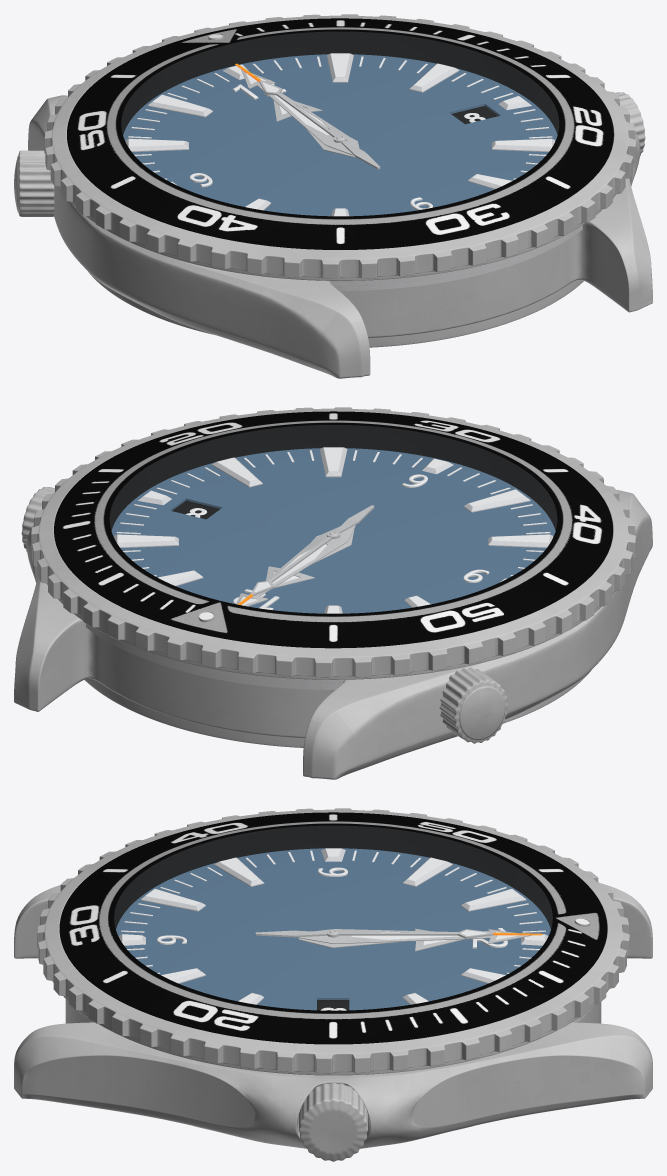
File: watch.glb
The picture shows the model from 3 angles, top to bottom: view 1: azimuth 30°, elevation 25°; view 2: azimuth 150°, elevation 25°; view 3: azimuth 270°, elevation 25°; orthographic projection. The views are drawn at different scales.
Parts seen in each view (by area): view 1: Curved_glass, Watch_Bezel, Dial_V2, Watch_Case (×2), Notched_bezel_Planet_ocean, 5min_display-RS_Aluminum_Brushed_01, Bellow_case_2.0, 5min_display-RS_White, Adjustment_Wheels_B, Minute_display, Minutes_hand, Seconde_hand-RS_Chromium 01 (+2 smaller); view 2: Curved_glass, Watch_Bezel, Dial_V2, Watch_Case (×2), Notched_bezel_Planet_ocean, 5min_display-RS_Aluminum_Brushed_01, Bellow_case_2.0, 5min_display-RS_White, Adjustment_Wheels_B, Adjustment_Wheels_C, Minute_display, Minutes_hand (+3 smaller); view 3: Curved_glass, Watch_Bezel, Watch_Case, Dial_V2, Notched_bezel_Planet_ocean, Adjustment_Wheels_A, 5min_display-RS_Aluminum_Brushed_01, 5min_display-RS_White, Minutes_hand, Minute_display, Seconde_hand-RS_Chromium 01, Numbers (+1 smaller).
Part boxes in pixels (x1,y1,x2,y2): Curved_glass: (122, 32, 558, 215); Watch_Bezel: (67, 18, 613, 249); Dial_V2: (123, 54, 557, 216); Watch_Case (×2): (28, 95, 652, 378); Notched_bezel_Planet_ocean: (44, 14, 636, 280); 5min_display-RS_Aluminum_Brushed_01: (125, 53, 554, 216); Bellow_case_2.0: (88, 272, 583, 347); 5min_display-RS_White: (128, 53, 551, 216); Adjustment_Wheels_B: (18, 150, 54, 216); Minute_display: (128, 56, 552, 179); Minutes_hand: (241, 69, 358, 155); Seconde_hand-RS_Chromium 01: (259, 80, 380, 169); Curved_glass: (110, 425, 556, 612); Watch_Bezel: (54, 411, 612, 648); Dial_V2: (111, 448, 555, 613); Watch_Case (×2): (14, 490, 652, 779); Notched_bezel_Planet_ocean: (31, 407, 635, 679); 5min_display-RS_Aluminum_Brushed_01: (114, 447, 552, 613); Bellow_case_2.0: (84, 670, 591, 747); 5min_display-RS_White: (117, 447, 549, 613); Adjustment_Wheels_B: (439, 667, 508, 743); Adjustment_Wheels_C: (459, 686, 505, 740); Minute_display: (116, 450, 550, 576); Minutes_hand: (236, 525, 355, 606); Curved_glass: (114, 826, 552, 1009); Watch_Bezel: (59, 812, 607, 1044); Watch_Case: (14, 882, 652, 1148); Dial_V2: (116, 848, 550, 1010); Notched_bezel_Planet_ocean: (37, 808, 629, 1075); Adjustment_Wheels_A: (299, 1082, 367, 1161); 5min_display-RS_Aluminum_Brushed_01: (118, 848, 548, 1004); 5min_display-RS_White: (122, 848, 544, 1003); Minutes_hand: (299, 929, 531, 943); Minute_display: (121, 850, 545, 973); Seconde_hand-RS_Chromium 01: (255, 929, 493, 938); Numbers: (157, 867, 507, 1010).
Bounding box in the file's own units: 0.7633 × 0.207 × 0.7718.
8 materials, 3 textured.
